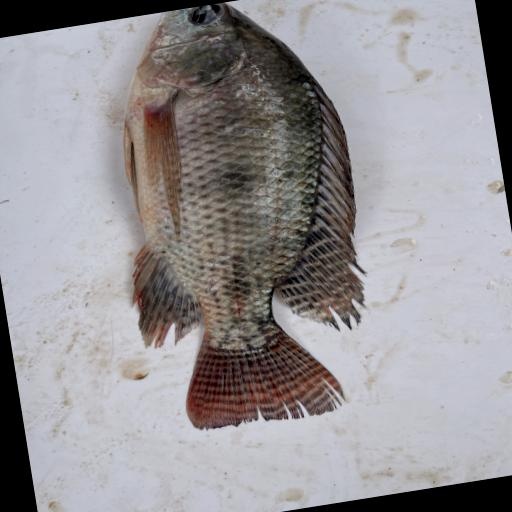Tilapia: (87, 0, 389, 443)
